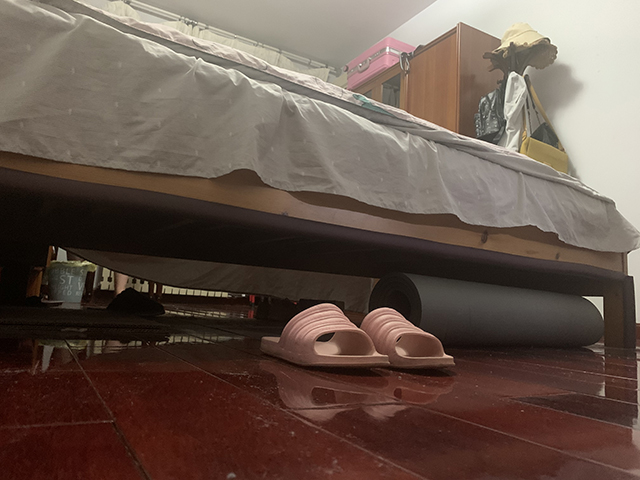bed: (1, 1, 639, 351)
slippers: (258, 300, 386, 370), (364, 305, 453, 366)
trashcan: (45, 259, 91, 305)
